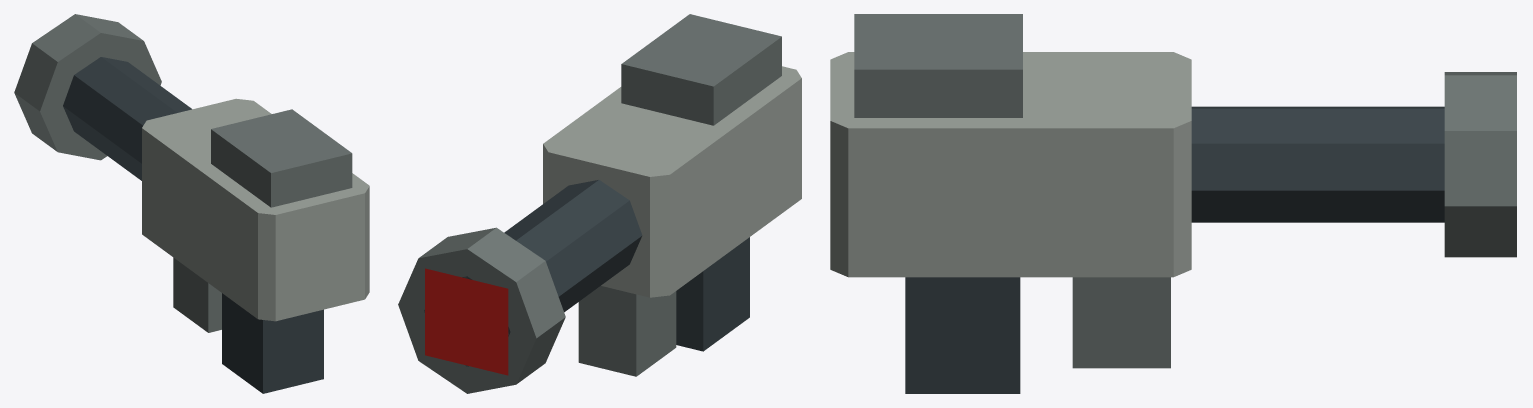
The picture shows the model from 3 angles, left to right: view 1: azimuth 30°, elevation 25°; view 2: azimuth 150°, elevation 25°; view 3: azimuth 270°, elevation 25°; orthographic projection. The views are drawn at different scales.
Visible parts, largest first — view 1: mount; view 2: mount; view 3: mount.
Part boxes in pixels (x1,y1,x2,y2): mount: (14,14,369,393); mount: (398,14,801,393); mount: (830,14,1516,393).
Size of the model in its own units: 3.6 by 6.68 by 12.57.
